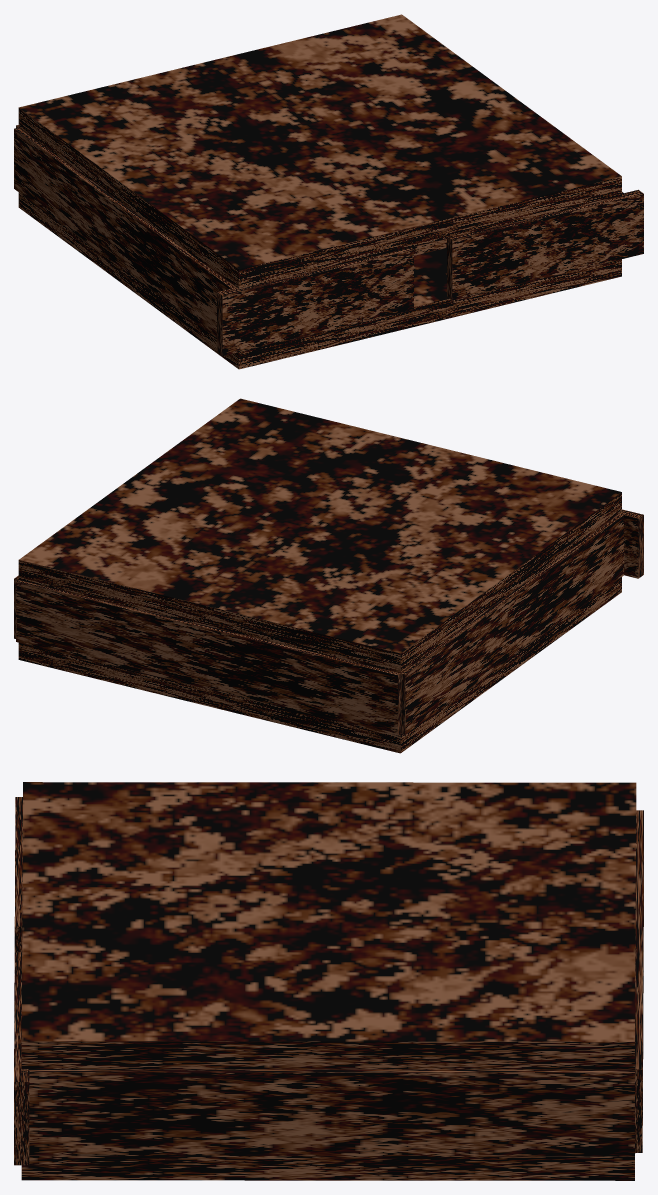
File: Stage1.fbx
The picture shows the model from 3 angles, top to bottom: view 1: azimuth 30°, elevation 25°; view 2: azimuth 150°, elevation 25°; view 3: azimuth 270°, elevation 25°; orthographic projection. The views are drawn at different scales.
Visible parts, largest first — view 1: Cube.013, Cube.002, Cube.004, Cube.005, Cube; view 2: Cube.013, Cube.003, Cube.002, Cube, Cube.004; view 3: Cube.013, Cube.001, Cube, Cube.003, Cube.005, Cube.004.
Part boxes in pixels (left/top/right/bottom): Cube.013: left=18, top=14, right=621, bottom=289; Cube.002: left=14, top=127, right=238, bottom=337; Cube.004: left=217, top=247, right=413, bottom=355; Cube.005: left=447, top=189, right=643, bottom=300; Cube: left=18, top=192, right=621, bottom=369; Cube.013: left=18, top=398, right=621, bottom=673; Cube.003: left=16, top=580, right=400, bottom=735; Cube.002: left=400, top=512, right=626, bottom=734; Cube: left=18, top=577, right=621, bottom=753; Cube.004: left=622, top=509, right=643, bottom=578; Cube.013: left=21, top=782, right=636, bottom=1069; Cube.001: left=21, top=1069, right=634, bottom=1156; Cube: left=21, top=1153, right=635, bottom=1180; Cube.003: left=635, top=810, right=643, bottom=1152; Cube.005: left=14, top=952, right=29, bottom=1165; Cube.004: left=14, top=797, right=22, bottom=952.
Bounding box in the file's own units: 44 × 10 × 41.09.
Materials: 2 (2 with a texture image).
